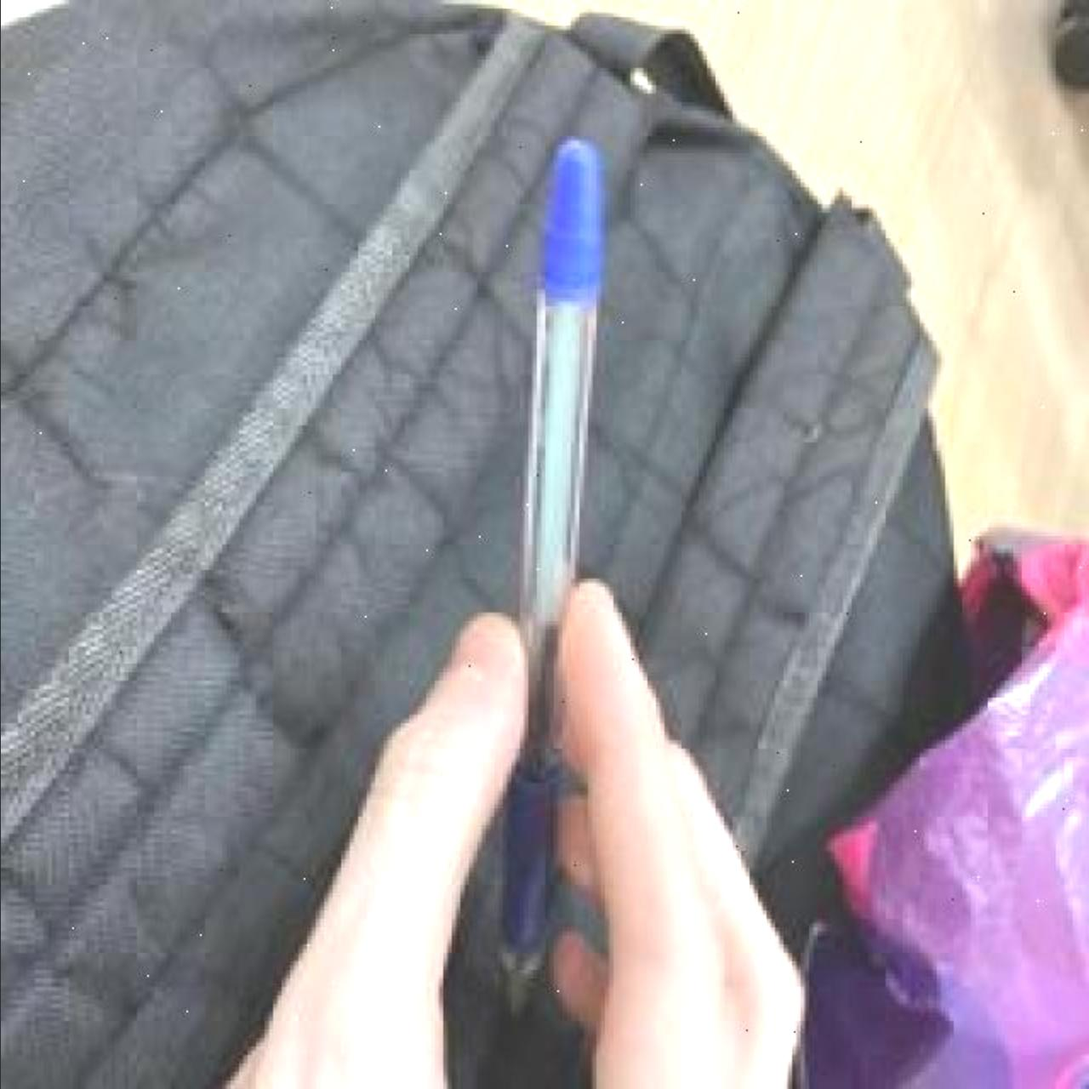pen: (502, 136, 604, 1021)
